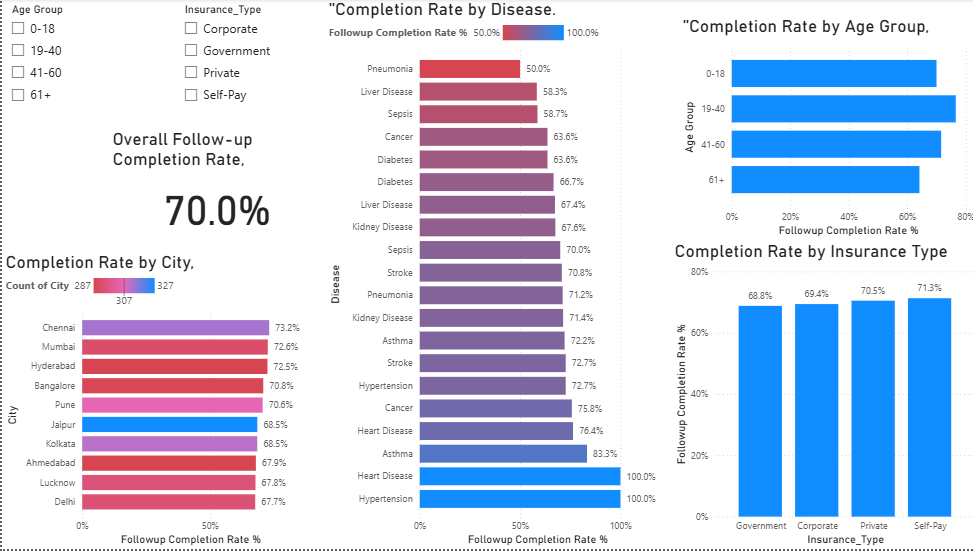

What the dashboard file says about the page in this screenshot:
{"tool":"powerbi","page":{"name":"Follow-up Compliance","canvas":[1280,720],"ordinal":8},"visuals":[{"type":"card","title":"Overall Follow-up Completion Rate,","fields":{"Values":["Healthcare_Master.Followup Completion Rate %"]},"box":[139.4,169.8,282.5,146.6],"z":0},{"type":"clusteredBarChart","title":"\"Completion Rate by Age Group,","fields":{"Category":["Healthcare_Master.Age Group"],"Y":["Healthcare_Master.Followup Completion Rate %"]},"box":[886.2,22.8,392.4,294],"z":1000},{"type":"clusteredBarChart","title":"Completion Rate by City,","fields":{"Category":["Healthcare_Master.City"],"Y":["Healthcare_Master.Followup Completion Rate %"]},"box":[0,331.1,406.7,389.6],"z":2000},{"type":"clusteredColumnChart","title":"Completion Rate by Insurance Type","fields":{"Category":["Healthcare_Master.Insurance_Type"],"Y":["Healthcare_Master.Followup Completion Rate %"]},"box":[876.2,316.8,403.8,403.8],"z":3000},{"type":"clusteredBarChart","title":"\"Completion Rate by Disease.","fields":{"Category":["Healthcare_Master.Disease"],"Y":["Healthcare_Master.Followup Completion Rate %"]},"box":[422.4,0,453.8,720.6],"z":4000},{"type":"slicer","fields":{"Values":["Healthcare_Master.Insurance_Type"]},"box":[227,0,194.9,146.6],"z":5000},{"type":"slicer","fields":{"Values":["Healthcare_Master.Age Group"]},"box":[0,0,166.3,169.8],"z":6000}]}

Visuals, with their boxes in screenshot pixels (x1, y1, x2, y2), scaled from the page's 1280x720 canvas onto the 973x552 screenshot:
"Overall Follow-up Completion Rate," card: BBox(106, 130, 321, 243)
""Completion Rate by Age Group," clusteredBarChart: BBox(674, 17, 972, 243)
"Completion Rate by City," clusteredBarChart: BBox(0, 254, 309, 551)
"Completion Rate by Insurance Type" clusteredColumnChart: BBox(666, 243, 972, 551)
""Completion Rate by Disease." clusteredBarChart: BBox(321, 0, 666, 551)
slicer - Healthcare_Master.Insurance_Type: BBox(173, 0, 321, 112)
slicer - Healthcare_Master.Age Group: BBox(0, 0, 126, 130)
